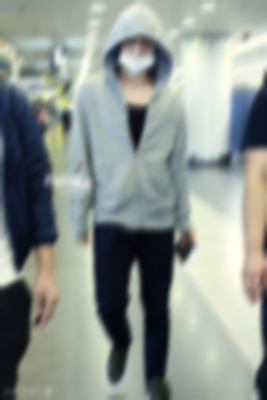mask_weared_incorrect: (116, 40, 156, 77)
